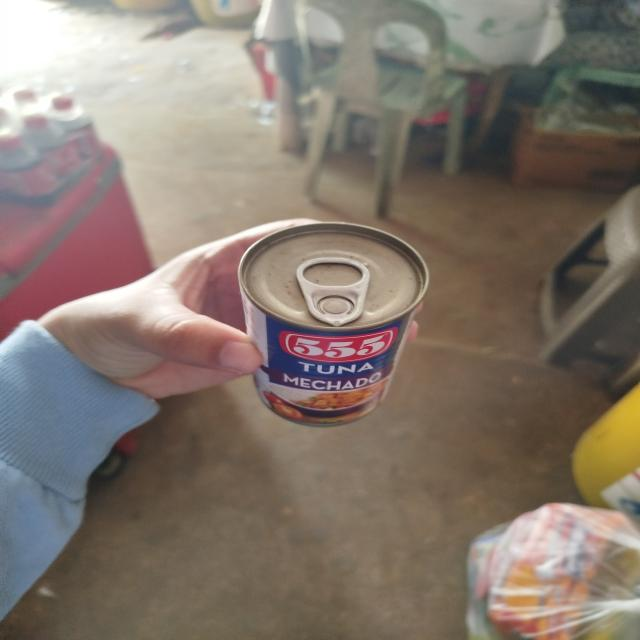metal: (224, 213, 470, 453)
